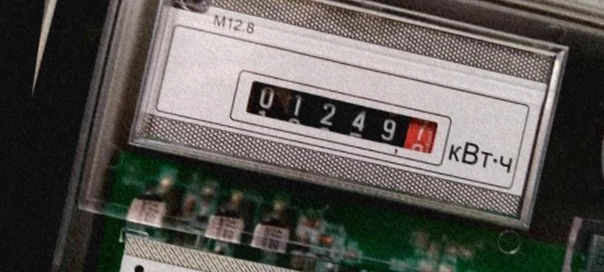0: (257, 83, 277, 111)
1: (288, 90, 305, 118)
2: (317, 100, 337, 128)
4: (349, 106, 369, 133)
7: (413, 116, 431, 144)
9: (377, 115, 398, 143)
screen: (225, 67, 457, 171)
